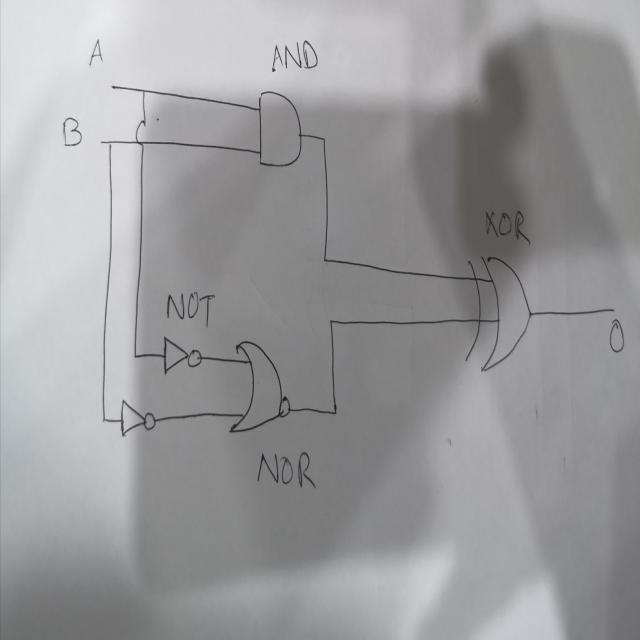crossover: (133, 116, 148, 150)
junction: (328, 399, 339, 421), (319, 130, 328, 148), (327, 314, 335, 327), (140, 84, 147, 98), (101, 412, 107, 426), (107, 138, 114, 150), (132, 348, 138, 361), (322, 254, 328, 266)
terminal: (108, 80, 117, 93), (608, 302, 616, 314), (98, 137, 104, 148)
text: (254, 444, 317, 493), (163, 288, 217, 330), (482, 206, 532, 246), (270, 38, 318, 73), (608, 317, 626, 355), (62, 114, 82, 147), (88, 36, 104, 68)
